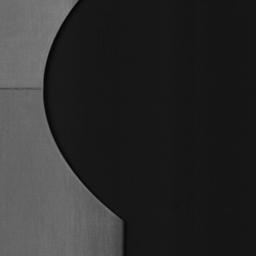Crescent gap: (43, 0, 121, 220)
